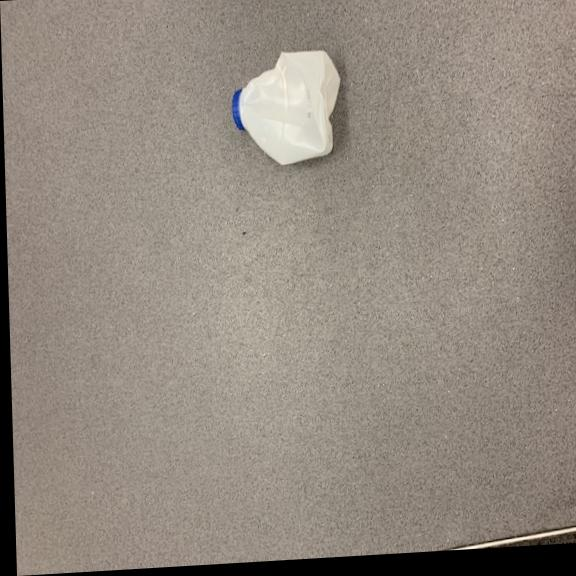Plastik: (227, 36, 350, 173)
